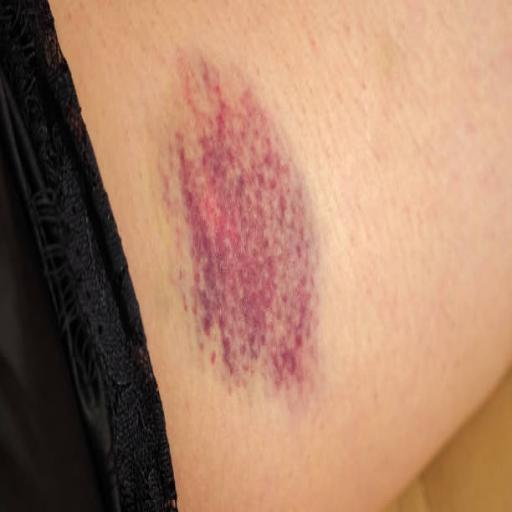bruises: (203, 144, 283, 295)
